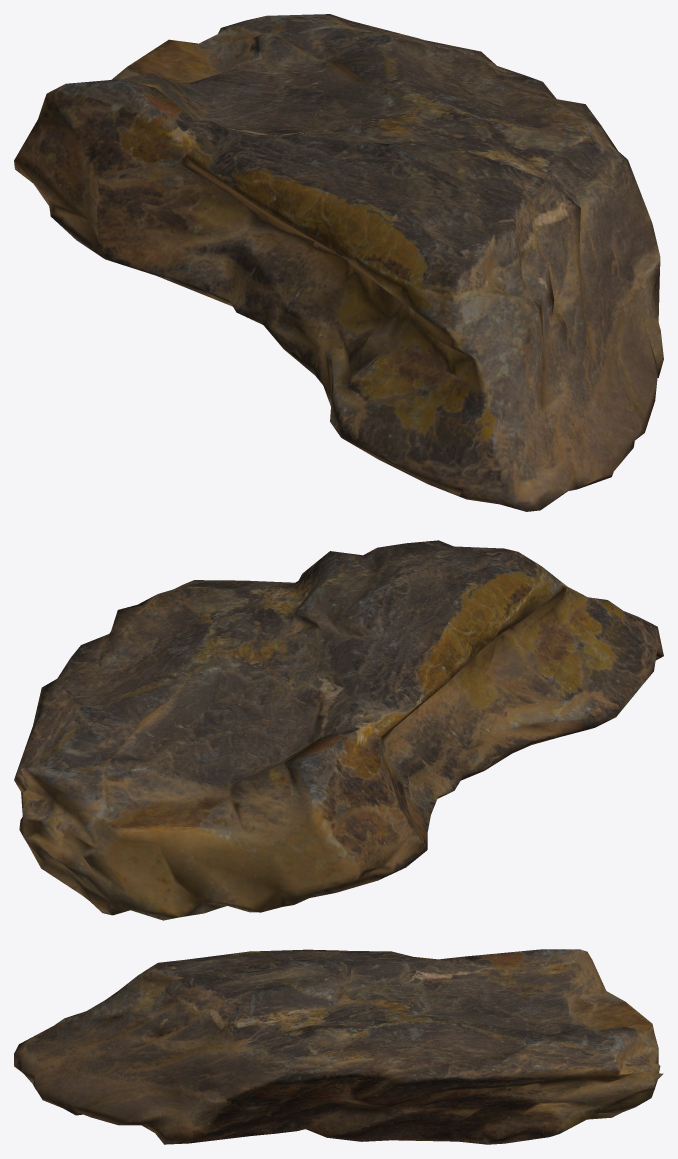
Rendered from rock_09.gltf.
3 views of the same model, one above another, from view 1: azimuth 30°, elevation 25°; view 2: azimuth 150°, elevation 25°; view 3: azimuth 270°, elevation 25° (orthographic). The views are drawn at different scales.
Visible parts, largest first — view 1: rock_09_LOD0; view 2: rock_09_LOD0; view 3: rock_09_LOD0.
Part boxes in pixels (box(x1,y1,x2,y2)): rock_09_LOD0: box(14, 14, 663, 511); rock_09_LOD0: box(14, 540, 663, 920); rock_09_LOD0: box(14, 949, 663, 1144).
Bounding box in the file's own units: 0.0738 × 0.0325 × 0.1446.
Materials: 1 (1 with a texture image).
